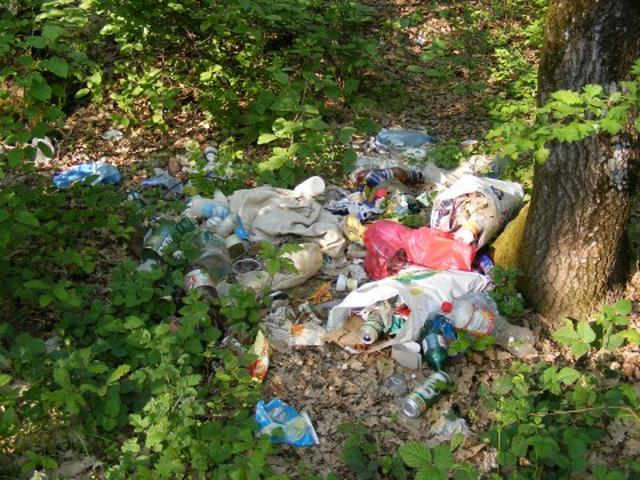garbage: (229, 196, 482, 361)
